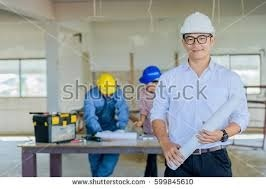helmet: (178, 12, 216, 37), (94, 73, 116, 94), (138, 67, 160, 83)
person with partial safety: (155, 10, 250, 171), (83, 71, 124, 134), (136, 64, 157, 127)
